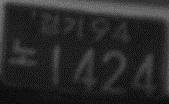1: (43, 43, 69, 86)
2: (101, 49, 127, 95)
4: (130, 52, 157, 96), (72, 46, 97, 91), (112, 21, 132, 46)
9: (90, 16, 110, 43)
경기_O: (39, 13, 83, 41)
노: (7, 38, 37, 68)
